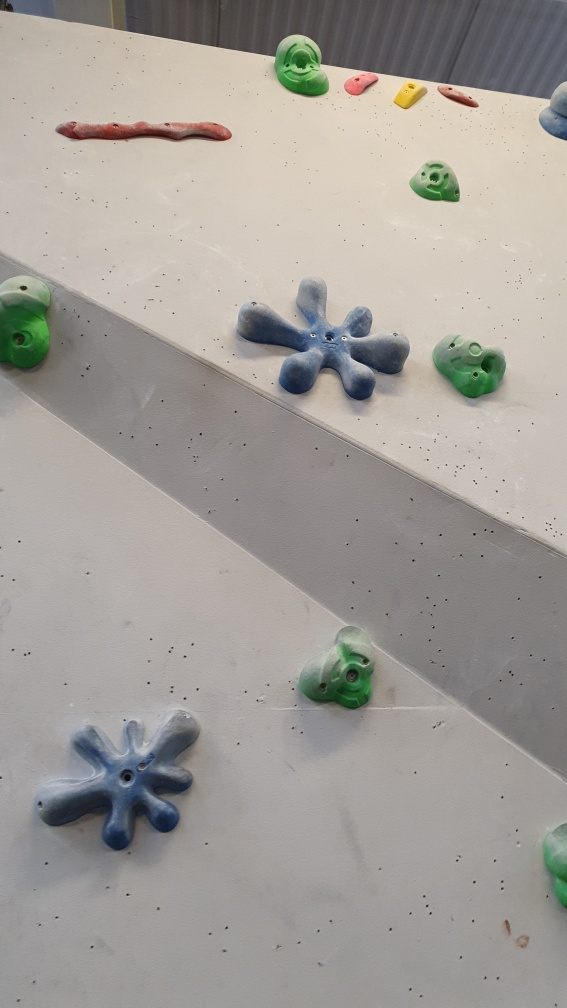Crimp: (433, 83, 482, 113), (340, 70, 385, 98)
Jug: (298, 624, 377, 713), (1, 273, 58, 380), (432, 330, 510, 404), (272, 32, 330, 99), (408, 156, 463, 205)
Octopus Pinch: (34, 702, 204, 854), (232, 275, 411, 404)
